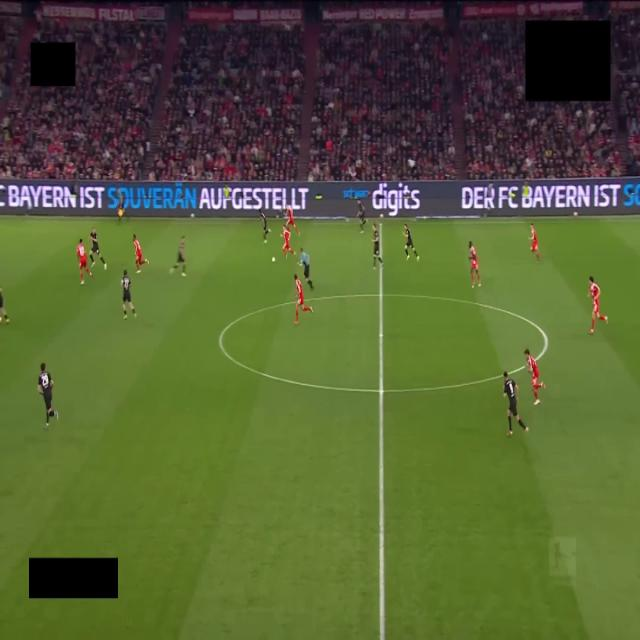ball: (272, 257, 275, 263)
player: (504, 372, 528, 436), (38, 363, 58, 428), (524, 349, 545, 405), (588, 277, 607, 334), (294, 274, 312, 324), (121, 270, 136, 319), (89, 228, 106, 270), (77, 239, 92, 284), (171, 236, 186, 277), (133, 234, 148, 273), (469, 241, 481, 287), (404, 224, 419, 260), (372, 224, 383, 269), (284, 206, 299, 234), (281, 226, 294, 256), (259, 208, 270, 243), (530, 224, 539, 261), (0, 287, 9, 323), (357, 200, 366, 232)
referee: (300, 248, 313, 290)
